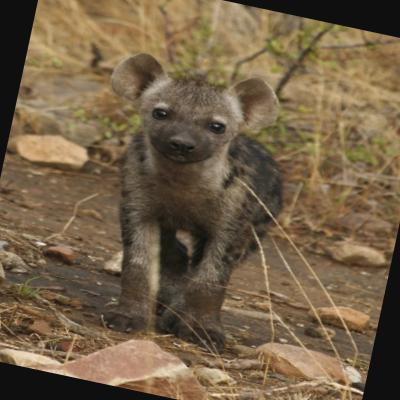hyenas: (29, 19, 331, 380)
